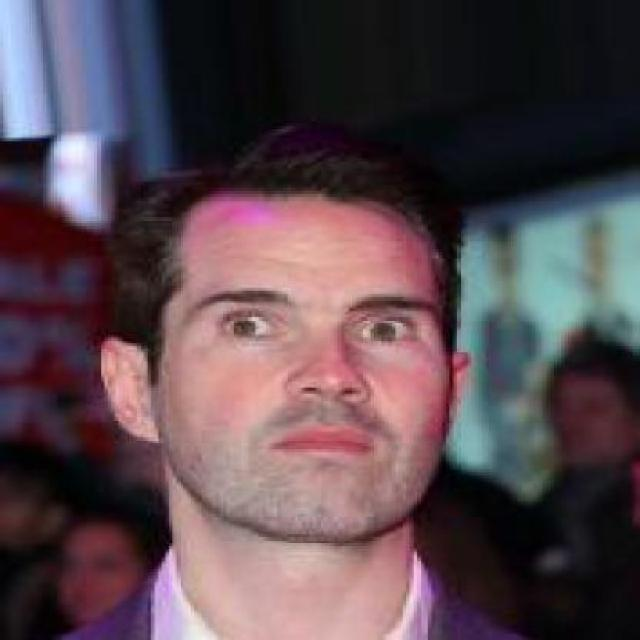closed-mouth: (274, 427, 369, 456)
